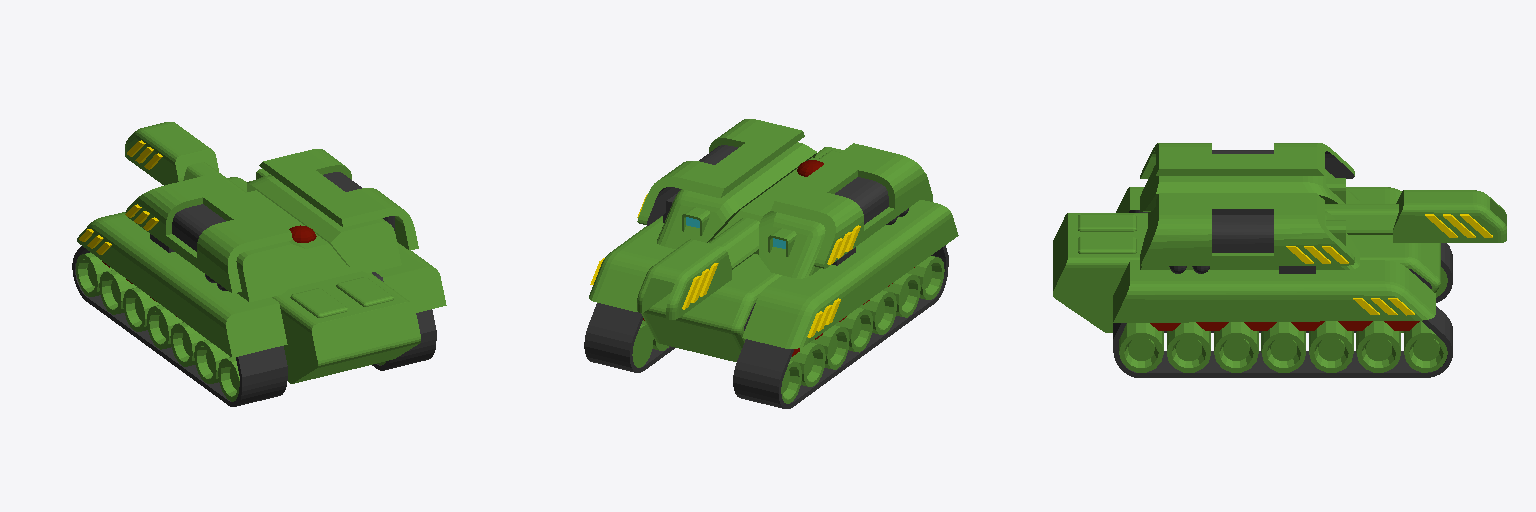
File: tank.obj
3 renders of one model, left to right at view 1: azimuth 30°, elevation 25°; view 2: azimuth 150°, elevation 25°; view 3: azimuth 270°, elevation 25°, orthographic.
Parts seen in each view (by area): view 1: body, head; view 2: body, head; view 3: body, head.
Boxes of the visible parts, <box> form: body: <box>72,177,446,406</box>; head: <box>125,122,418,301</box>; body: <box>584,147,958,408</box>; head: <box>637,119,930,319</box>; body: <box>1053,187,1452,377</box>; head: <box>1140,143,1506,273</box>.
Size of the model in its own units: 0.9679 by 0.6286 by 1.73.